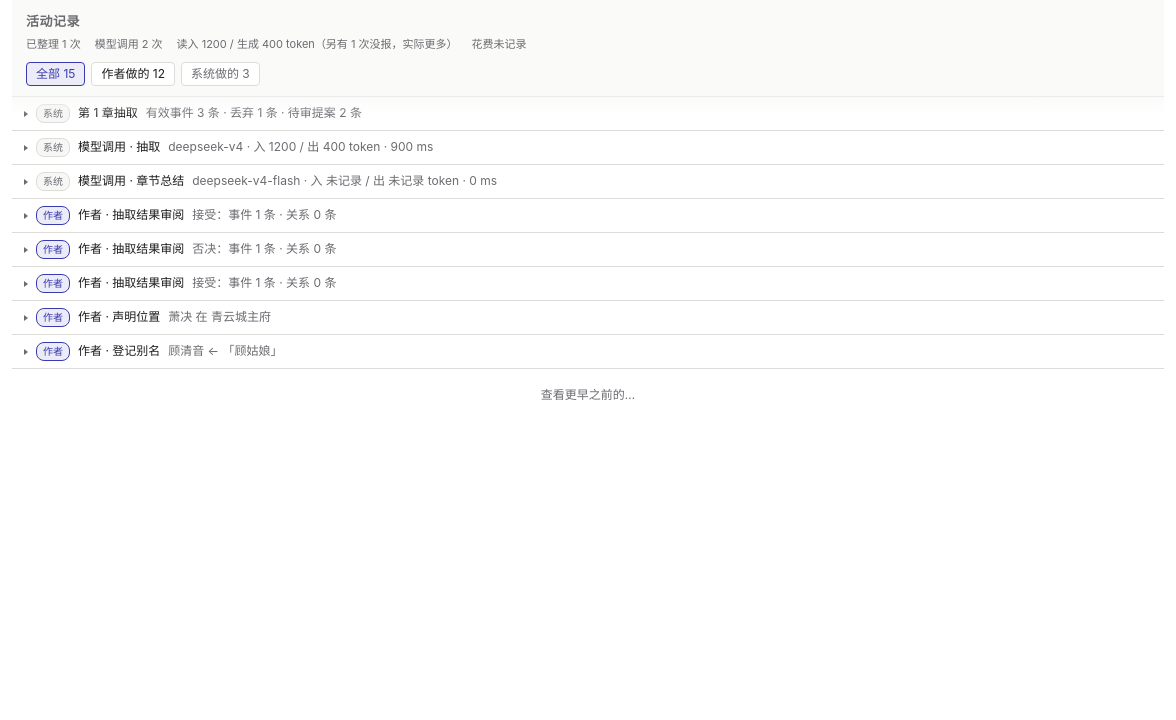
活动记录 › **审计信封一个字都不上屏** —— 作者看的是 rows，不是给机器重放用的那份
Click the 1st button "作者 作者 · 抽取结果审阅 接受：事件 1 条 · 关系 0 条".
click(53, 216)  # box x1=12 y1=199 x2=1164 y2=232
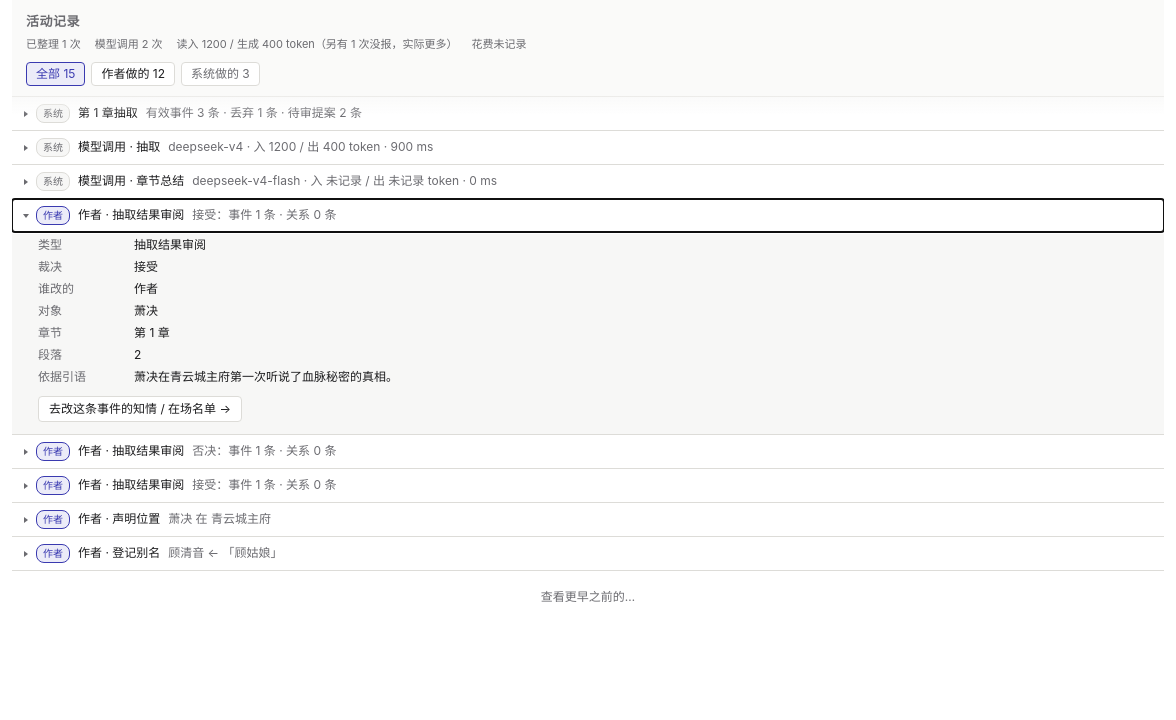
Expected: the text "依据引语" is shown, x1=38 y1=369 x2=86 y2=384
